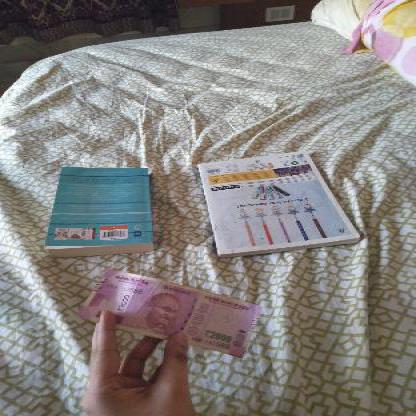New2000Front: (83, 270, 257, 360)
